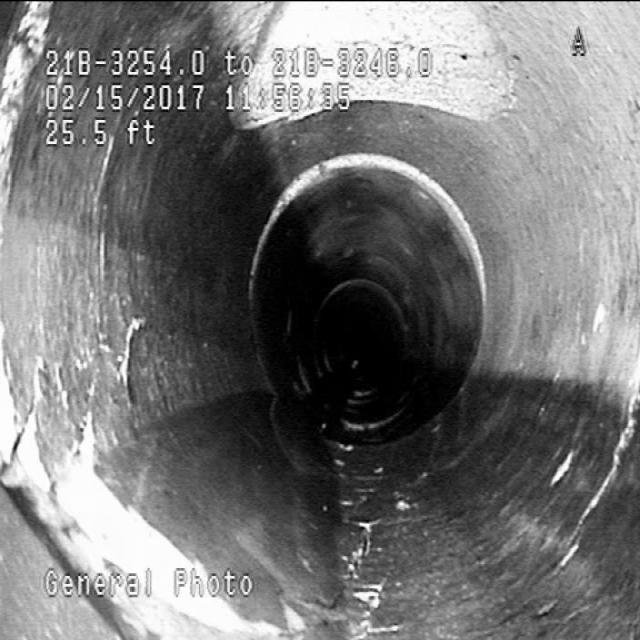Crack: (34, 298, 167, 420)
